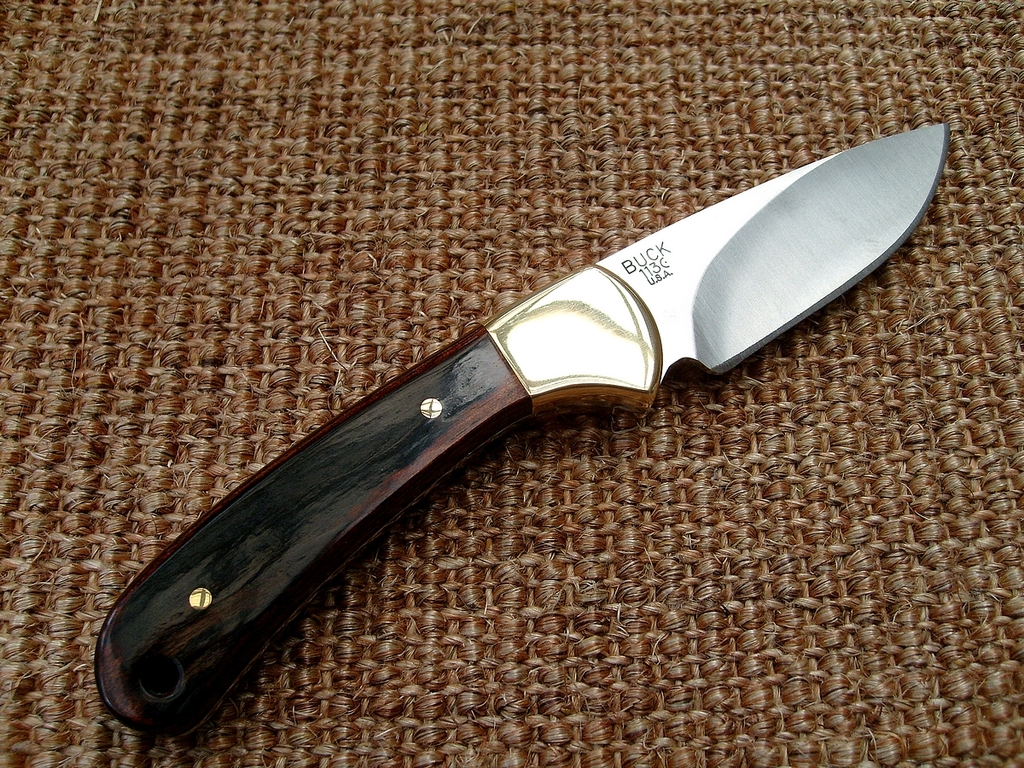kitchen knife: (94, 122, 949, 736)
